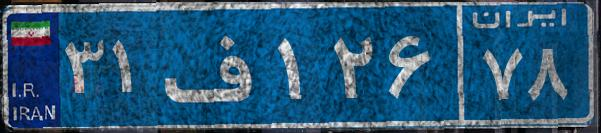1: (273, 28, 330, 110), (110, 28, 158, 105)
2: (330, 28, 385, 110)
3: (57, 26, 110, 107)
6: (385, 28, 445, 110)
7: (475, 38, 525, 113)
8: (525, 38, 570, 115)
ف: (158, 15, 273, 115)
